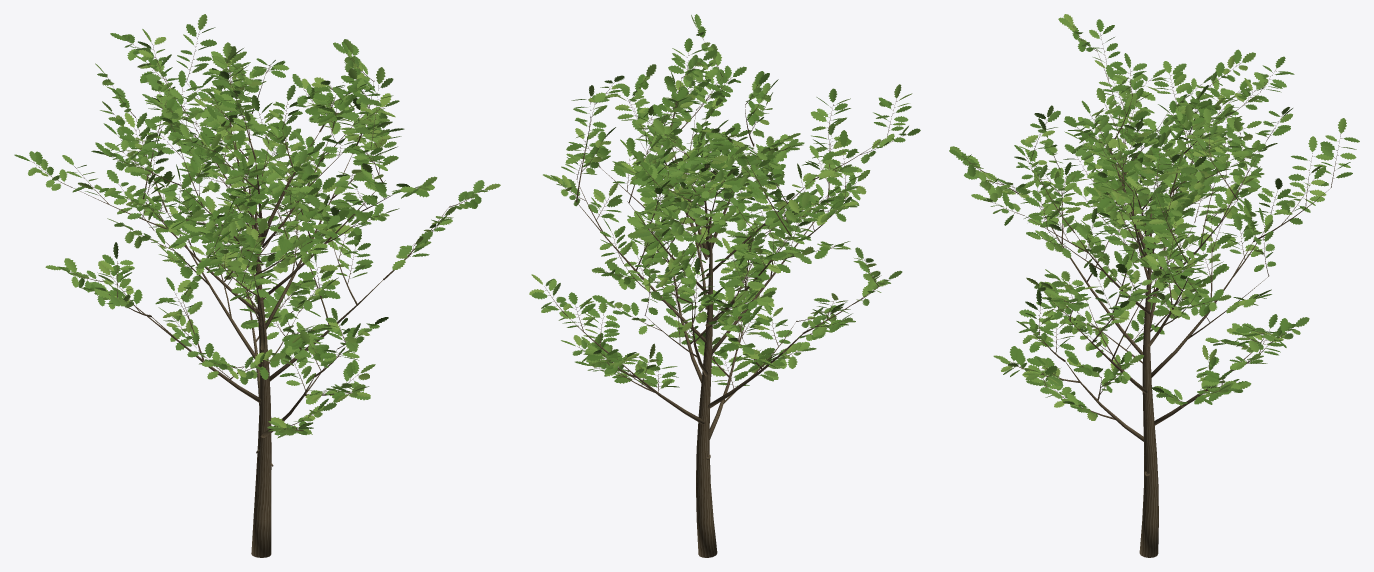
Rendered from Sessile_Oak_Young_01_LowPruned_Healed_LOD0.fbx.
The picture shows the model from 3 angles, left to right: view 1: azimuth 30°, elevation 25°; view 2: azimuth 150°, elevation 25°; view 3: azimuth 270°, elevation 25°; orthographic projection. The views are drawn at different scales.
Visible parts, largest first — view 1: Sessile_Oak_Young_01_LowPruned_Healed_LOD0; view 2: Sessile_Oak_Young_01_LowPruned_Healed_LOD0; view 3: Sessile_Oak_Young_01_LowPruned_Healed_LOD0.
Boxes of the visible parts, <box> form: Sessile_Oak_Young_01_LowPruned_Healed_LOD0: <box>14,14,500,557</box>; Sessile_Oak_Young_01_LowPruned_Healed_LOD0: <box>529,14,920,557</box>; Sessile_Oak_Young_01_LowPruned_Healed_LOD0: <box>949,14,1359,557</box>.
Bounding box in the file's own units: 632 × 799 × 620.
6 materials, 2 textured.
